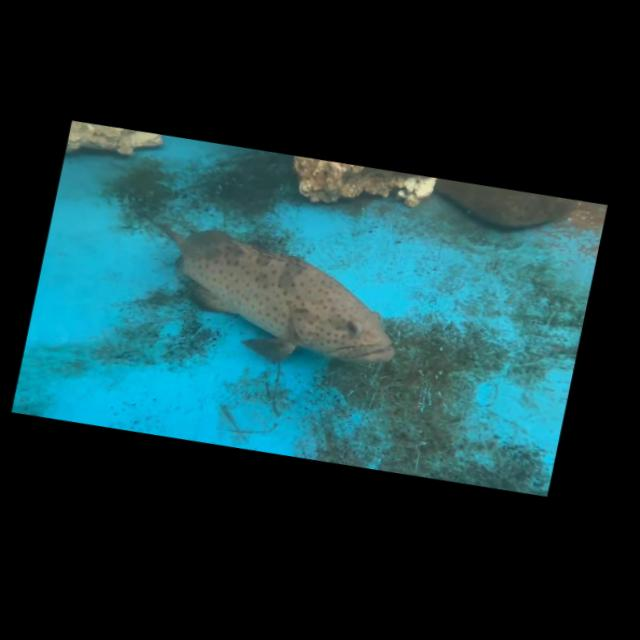Groupers: (137, 208, 415, 386)
